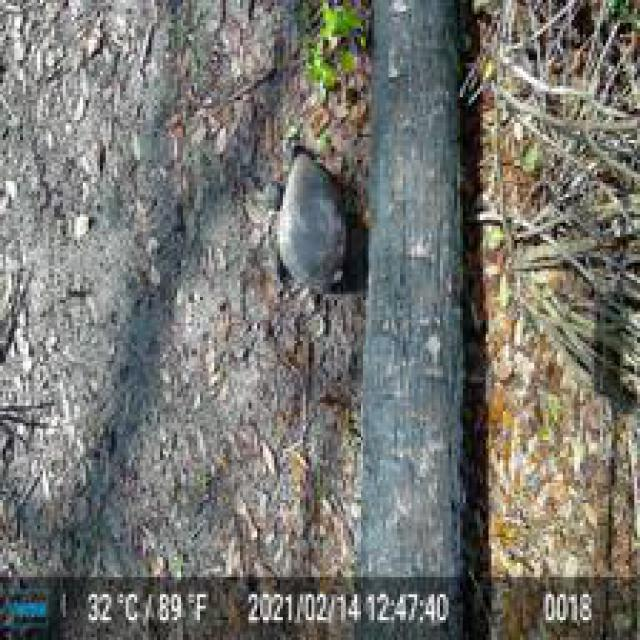tortoise: (257, 149, 349, 295)
